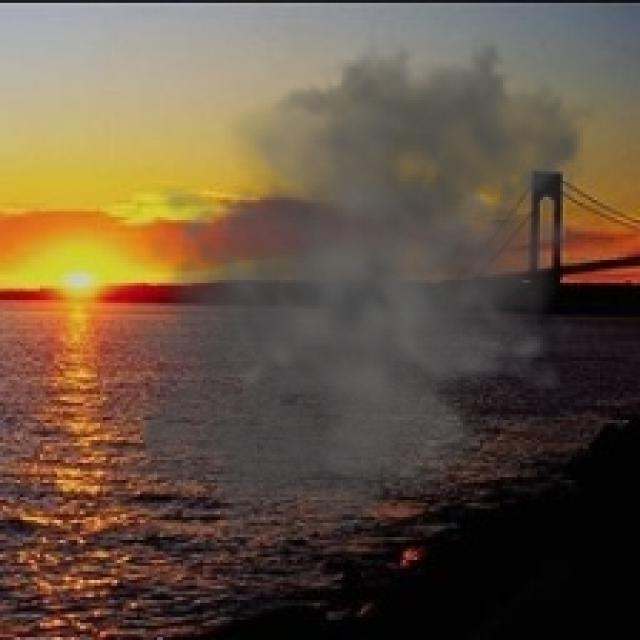Smoke: (100, 6, 623, 572)
